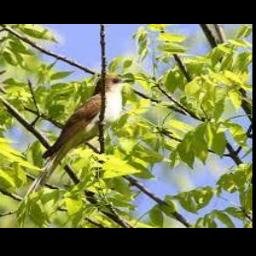Cuckoo: (23, 74, 134, 201)
